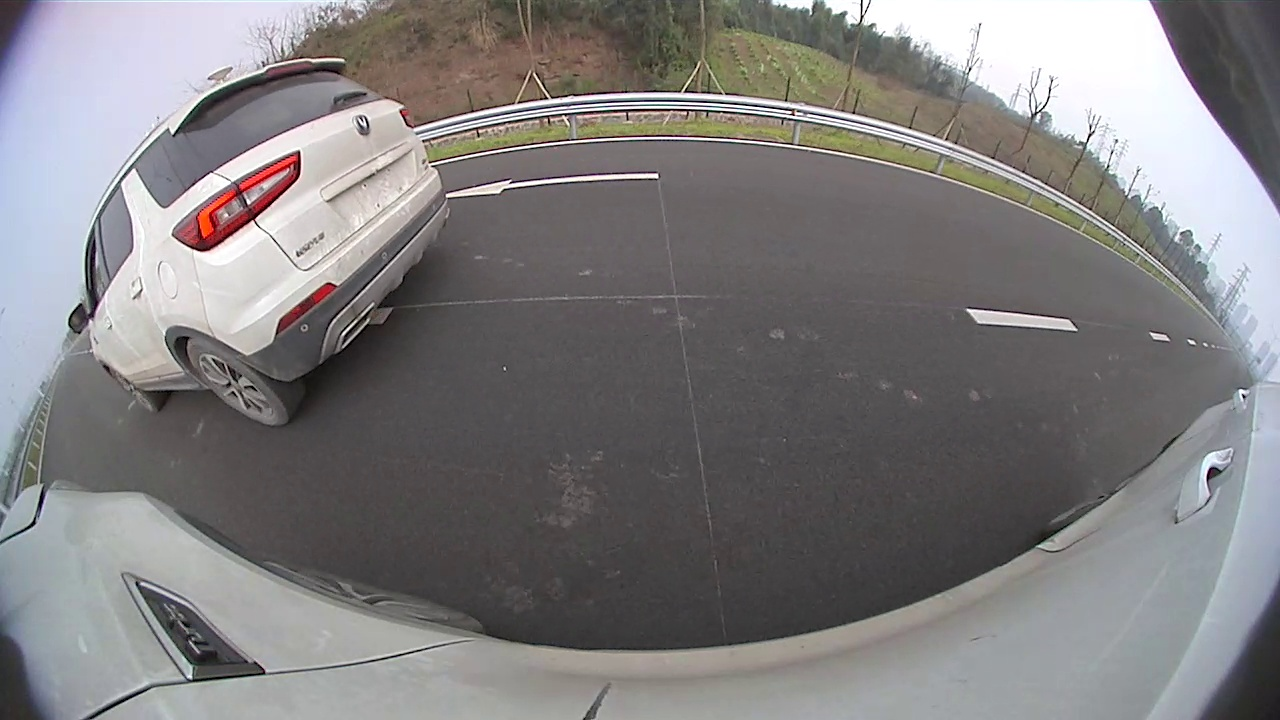car: (67, 56, 451, 428)
rear: (185, 334, 286, 423)
